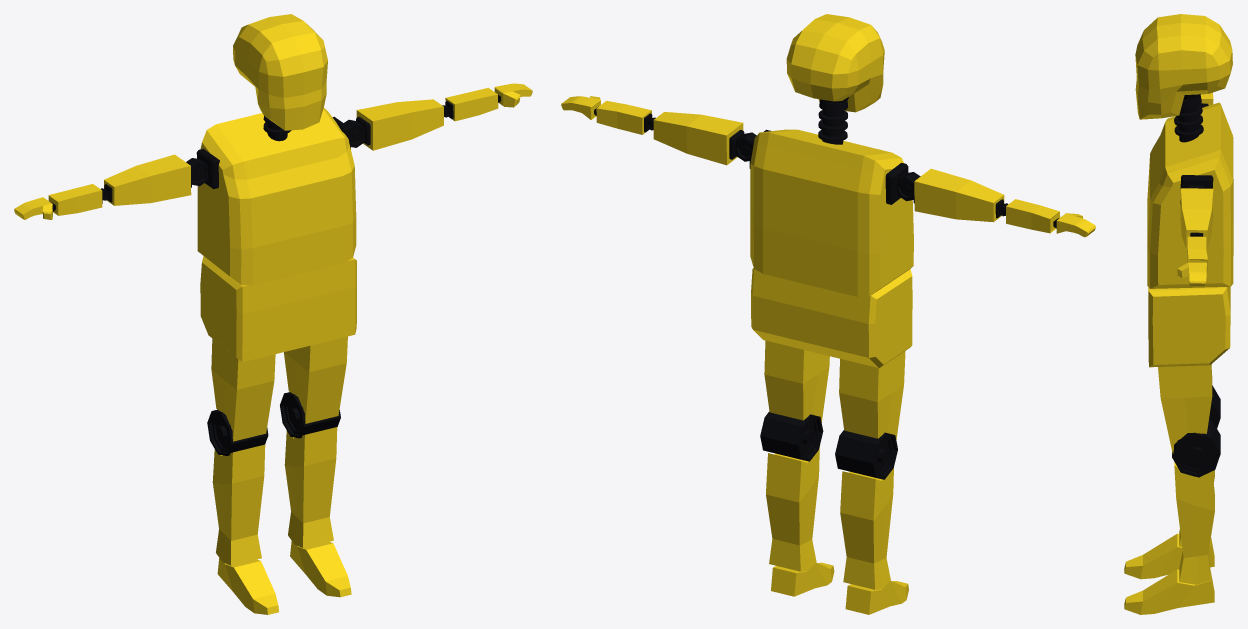
The model's file is DummyMuñeco.fbx.
3 renders of one model, left to right at view 1: azimuth 30°, elevation 25°; view 2: azimuth 150°, elevation 25°; view 3: azimuth 270°, elevation 25°, orthographic. The views are drawn at different scales.
Visible parts, largest first — view 1: Dummy; view 2: Dummy; view 3: Dummy.
Part boxes in pixels (x1,y1,x2,y2): Dummy: (14,14,532,614); Dummy: (561,14,1095,614); Dummy: (1124,14,1233,614).
Size of the model in its own units: 187 by 197 by 34.23.
1 material, 1 textured.
